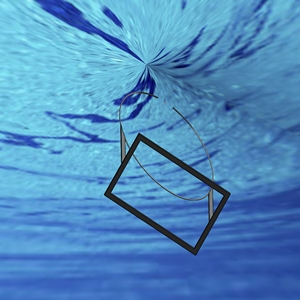circle: (103, 90, 232, 255)
